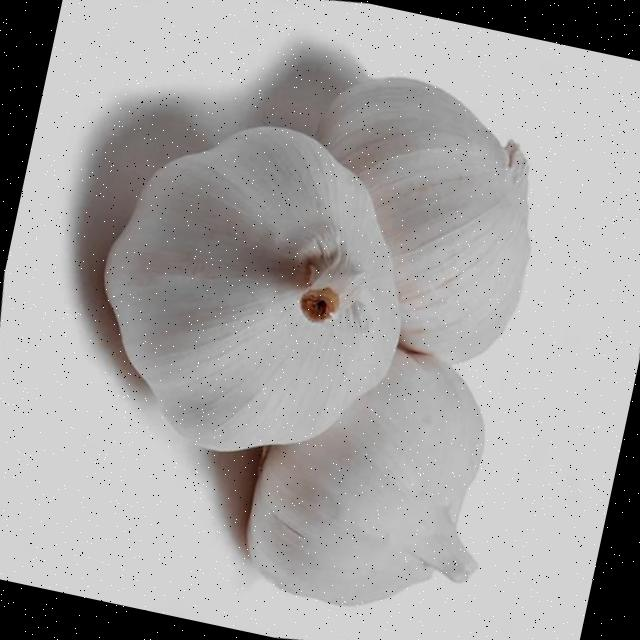garlic: (104, 126, 399, 451), (245, 349, 483, 605), (317, 77, 528, 363)
